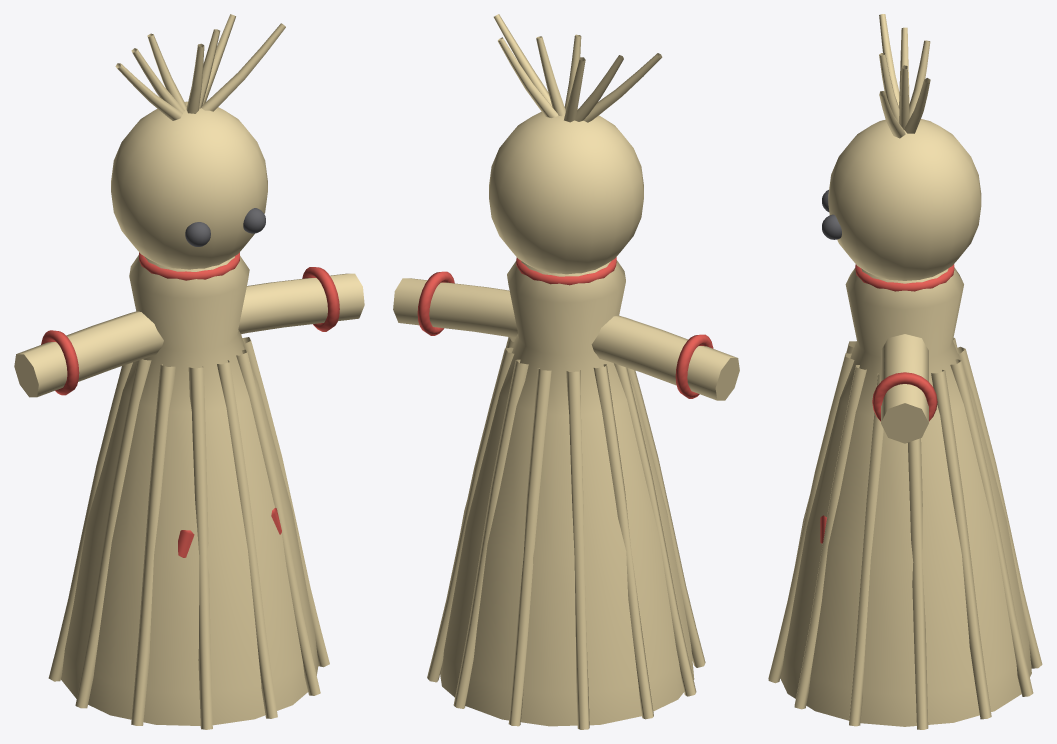
The model's file is item-hal-straw-doll.glb.
3 views of the same model, side by side, from view 1: azimuth 30°, elevation 25°; view 2: azimuth 150°, elevation 25°; view 3: azimuth 270°, elevation 25° (orthographic). The views are drawn at different scales.
Bounding box in the file's own units: 0.1321 × 0.2433 × 0.0971.
